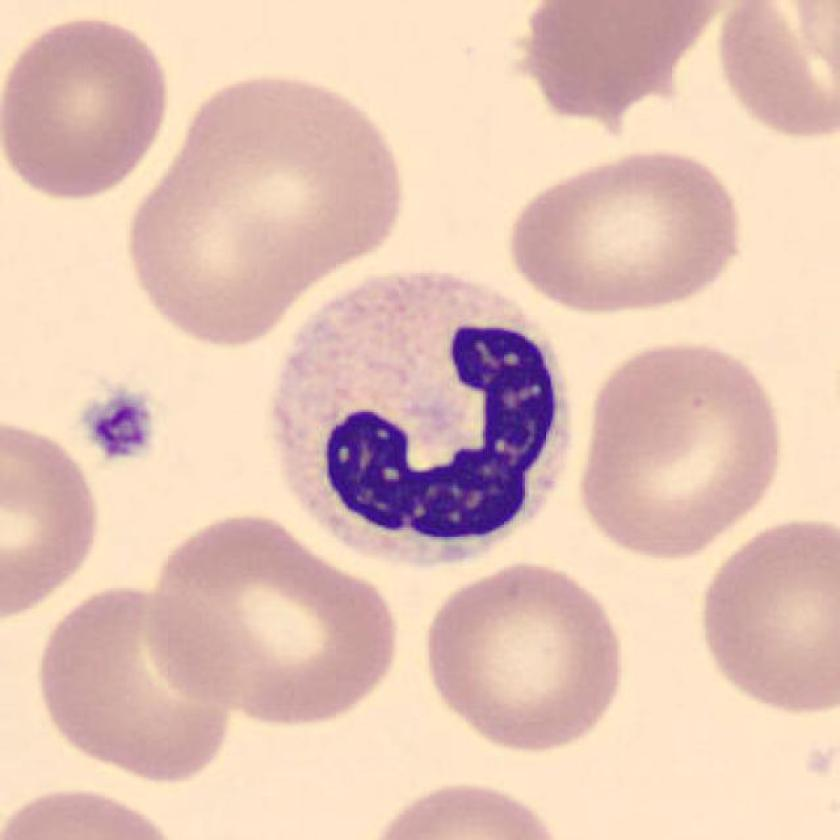neutrophil: (275, 270, 571, 562)
